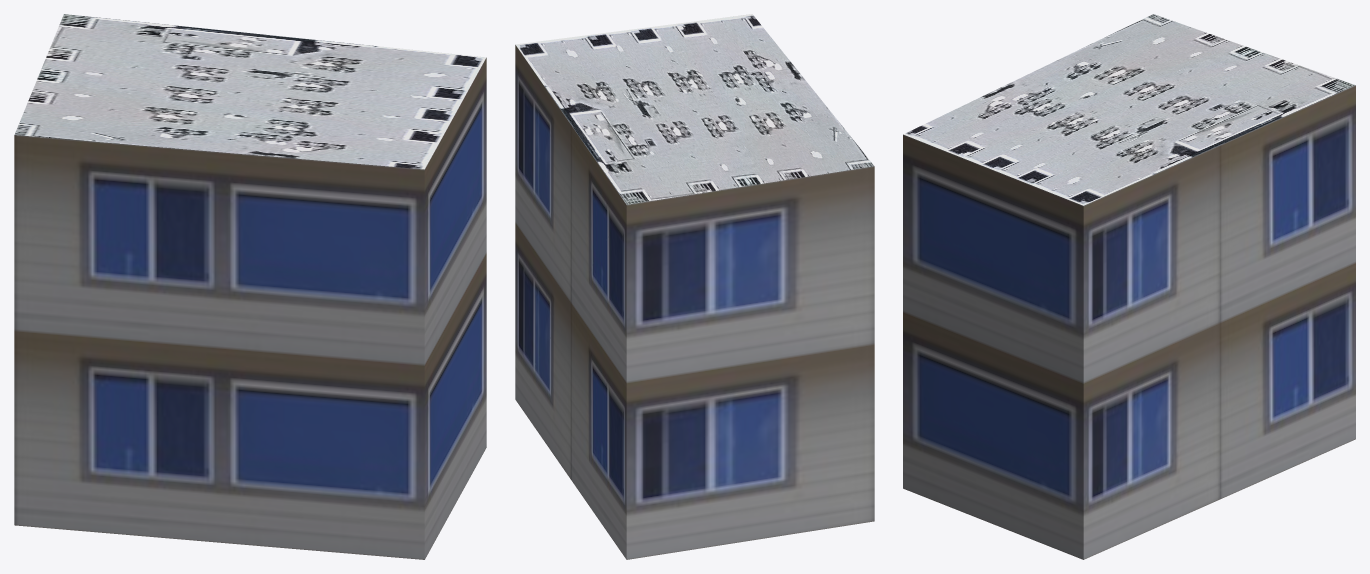
The model's file is ResTex__511.fbx.
3 views of the same model, side by side, from view 1: azimuth 30°, elevation 25°; view 2: azimuth 150°, elevation 25°; view 3: azimuth 270°, elevation 25° (orthographic). The views are drawn at different scales.
Parts seen in each view (by area): view 1: CityEngineMaterial_23_m, CityEngineMaterial_8_m; view 2: CityEngineMaterial_23_m, CityEngineMaterial_8_m; view 3: CityEngineMaterial_23_m, CityEngineMaterial_8_m.
Boxes of the visible parts, box(x1,y1,x2,y2) form: CityEngineMaterial_23_m: box(14, 57, 486, 559); CityEngineMaterial_8_m: box(14, 14, 486, 169); CityEngineMaterial_23_m: box(515, 45, 874, 559); CityEngineMaterial_8_m: box(515, 14, 874, 204); CityEngineMaterial_23_m: box(903, 85, 1355, 559); CityEngineMaterial_8_m: box(903, 14, 1355, 205).
Bounding box in the file's own units: 6.97 × 6 × 6.95.
2 materials, 2 textured.
